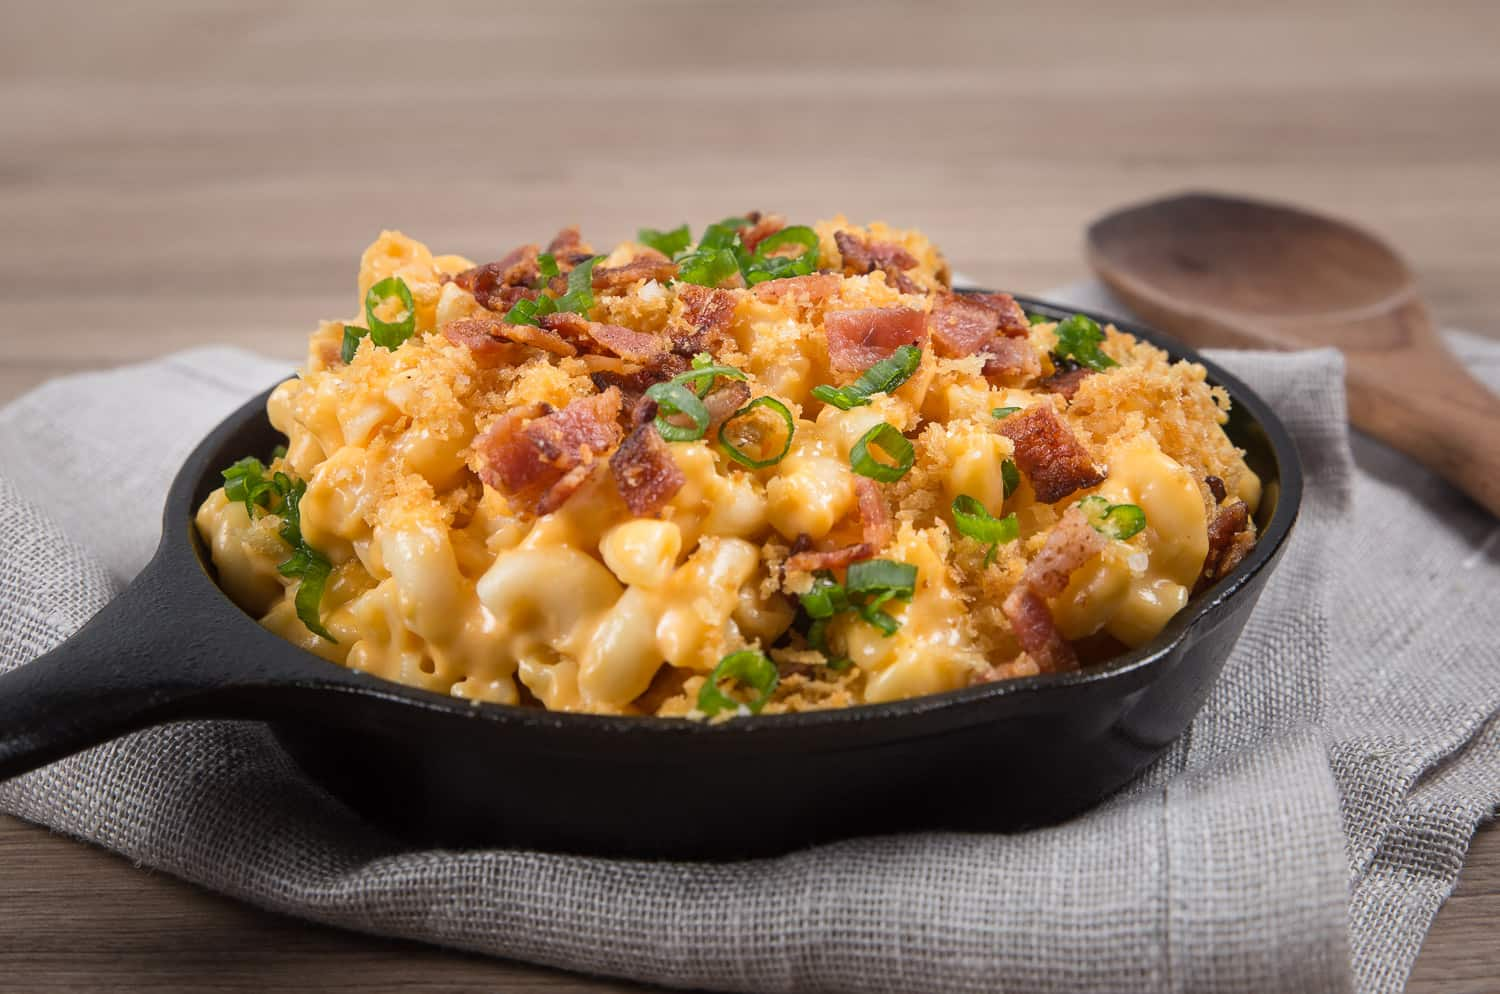macncheese: (291, 376, 854, 849)
